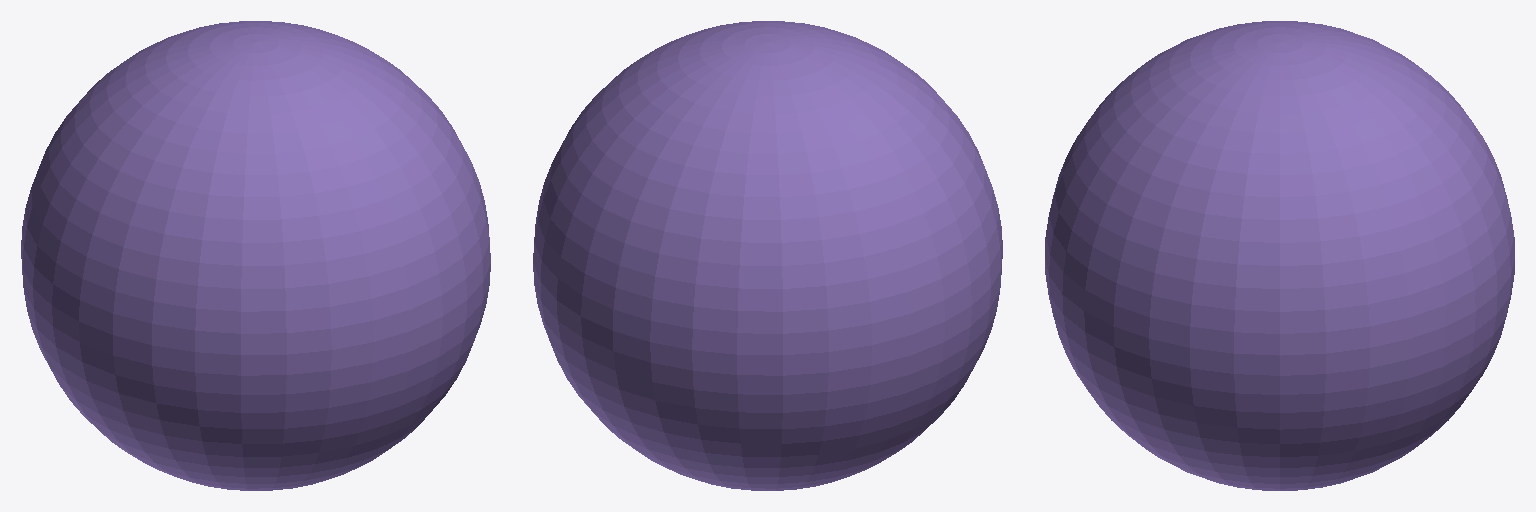
The model's file is beam_core.obj.
The picture shows the model from 3 angles: view 1: azimuth 30°, elevation 25°; view 2: azimuth 150°, elevation 25°; view 3: azimuth 270°, elevation 25°; orthographic projection.
Parts seen in each view (by area): view 1: Sphere; view 2: Sphere; view 3: Sphere.
Part boxes in pixels (x1,y1,x2,y2): Sphere: (21,21,490,490); Sphere: (533,21,1002,490); Sphere: (1045,21,1514,490).
Size of the model in its own units: 2 by 2 by 2.